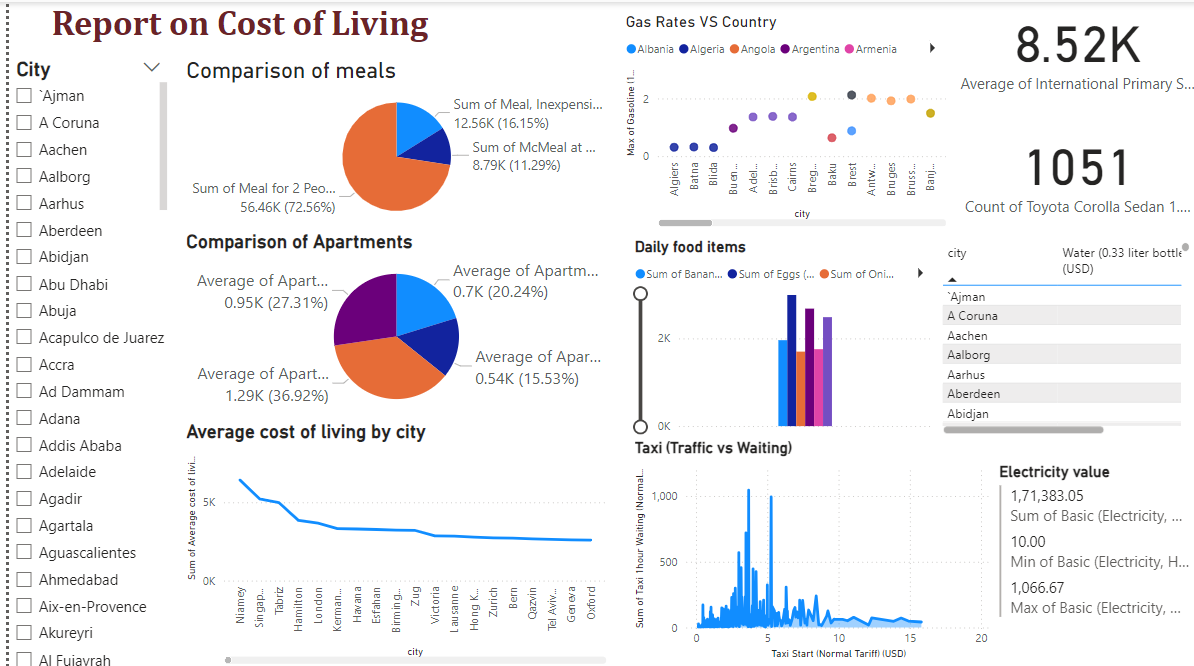

Layout of this report page (visuals, bound fields, positions):
{"tool":"powerbi","page":{"name":"Page 1","canvas":[1280,720],"ordinal":0},"visuals":[{"type":"pieChart","title":"Comparison of meals","fields":{"Y":["Sum(Sheet1.Meal, Inexpensive Restaurant (USD))","Sum(Sheet1.McMeal at McDonalds (or Equivalent Combo Meal) (USD))","Sum(Sheet1.Meal for 2 People, Mid-range Restaurant, Three-course (USD))"]},"box":[186.2,60,463.8,186.2],"z":0},{"type":"textbox","box":[15.7,0,465.7,60],"z":1000},{"type":"slicer","fields":{"Values":["Sheet1.city"]},"box":[0,60,170.9,660],"z":2000},{"type":"lineChart","title":" Average cost of living by city","fields":{"Y":["Sum(Sheet1.Average cost of living)"],"Category":["Sheet1.city"]},"box":[186.7,452.5,463.3,267.5],"z":2001},{"type":"pieChart","title":"Comparison of Apartments","fields":{"Y":["Avg(Sheet1.Apartment (1 bedroom) in City Centre (USD))","Avg(Sheet1.Apartment (1 bedroom) Outside of Centre (USD))","Avg(Sheet1.Apartment (3 bedrooms) in City Centre (USD))","Avg(Sheet1.Apartment (3 bedrooms) Outside of Centre (USD))"]},"box":[186.7,246.7,463.3,205.8],"z":2002},{"type":"card","fields":{"Values":["Avg(Sheet1.International Primary School, Yearly for 1 Child (USD))"]},"box":[1025.8,0,254.2,99.2],"z":2003},{"type":"scatterChart","title":"Gas Rates VS Country","fields":{"X":["Sheet1.city"],"Series":["Sheet1.country"],"Y":["Max(Sheet1.Gasoline (1 liter) (USD))"]},"box":[660.8,10.8,355.8,235.8],"z":2004},{"type":"clusteredColumnChart","title":"Daily food items","fields":{"Y":["Sum(Sheet1.Banana (1kg) (USD))","Sum(Sheet1.Eggs (regular) (12) (USD))","Sum(Sheet1.Onion (1kg) (USD))","Sum(Sheet1.Oranges (1kg) (USD))","Sum(Sheet1.Potato (1kg) (USD))","Sum(Sheet1.Rice (white), (1kg) (USD))"]},"box":[670,253.6,332.7,217.3],"z":2005},{"type":"areaChart","title":"Taxi (Traffic vs Waiting)","fields":{"Y":["Sum(Sheet1.Taxi 1hour Waiting (Normal Tariff) (USD))"],"Category":["Sheet1.Taxi Start (Normal Tariff) (USD)"]},"box":[670,470.9,393.6,242.7],"z":2006},{"type":"card","fields":{"Values":["Count(Sheet1.Toyota Corolla Sedan 1.6l 97kW Comfort (Or Equivalent New Car) (USD))"]},"box":[1026.4,115.5,253.6,133.6],"z":2007},{"type":"tableEx","fields":{"Values":["Sheet1.city","Sheet1.Water (0.33 liter bottle, in restaurants) (USD)"]},"box":[1002.7,253.6,277.3,217.3],"z":2008},{"type":"multiRowCard","title":"Electricity value","fields":{"Values":["Sum(Sheet1.Basic (Electricity, Heating, Cooling, Water, Garbage) for 85m2 Apartment (USD))","Min(Sheet1.Basic (Electricity, Heating, Cooling, Water, Garbage) for 85m2 Apartment (USD))","Max(Sheet1.Basic (Electricity, Heating, Cooling, Water, Garbage) for 85m2 Apartment (USD))"]},"box":[1063.6,497.3,216.4,216.4],"z":2009}]}

Visuals, with their boxes in screenshot pixels (x1, y1, x2, y2), scaled from the page's 1280x720 canvas onto the 1194x666 screenshot:
"Comparison of meals" pieChart: [x1=174, y1=56, x2=606, y2=228]
textbox: [x1=15, y1=0, x2=449, y2=56]
slicer - Sheet1.city: [x1=0, y1=56, x2=159, y2=665]
" Average cost of living by city" lineChart: [x1=174, y1=419, x2=606, y2=665]
"Comparison of Apartments" pieChart: [x1=174, y1=228, x2=606, y2=419]
card - Avg(Sheet1.International Primary School, Yearly for 1 Child (USD)): [x1=957, y1=0, x2=1193, y2=92]
"Gas Rates VS Country" scatterChart: [x1=616, y1=10, x2=948, y2=228]
"Daily food items" clusteredColumnChart: [x1=625, y1=235, x2=935, y2=436]
"Taxi (Traffic vs Waiting)" areaChart: [x1=625, y1=436, x2=992, y2=660]
card - Count(Sheet1.Toyota Corolla Sedan 1.6l 97kW Comfort (Or Equivalent New Car) (USD)): [x1=957, y1=107, x2=1193, y2=230]
tableEx - Sheet1.city x Sheet1.Water (0.33 liter bottle, in restaurants) (USD): [x1=935, y1=235, x2=1193, y2=436]
"Electricity value" multiRowCard: [x1=992, y1=460, x2=1193, y2=660]
